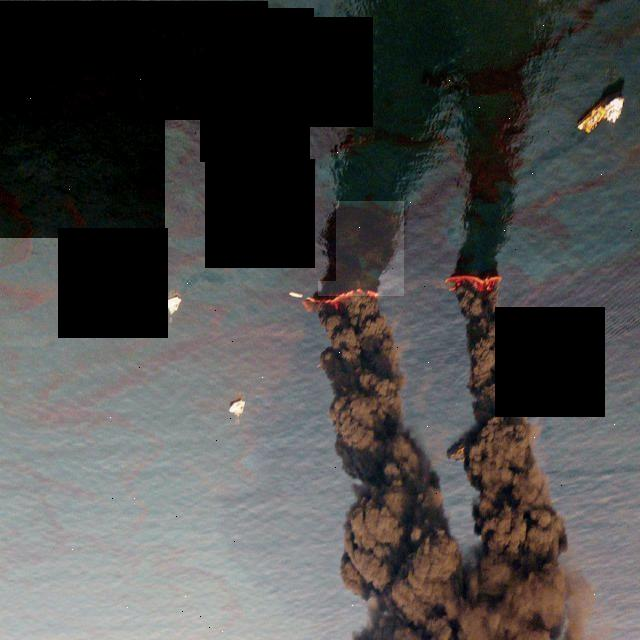oil spill: (0, 2, 268, 238), (165, 121, 336, 281), (319, 201, 404, 296)
